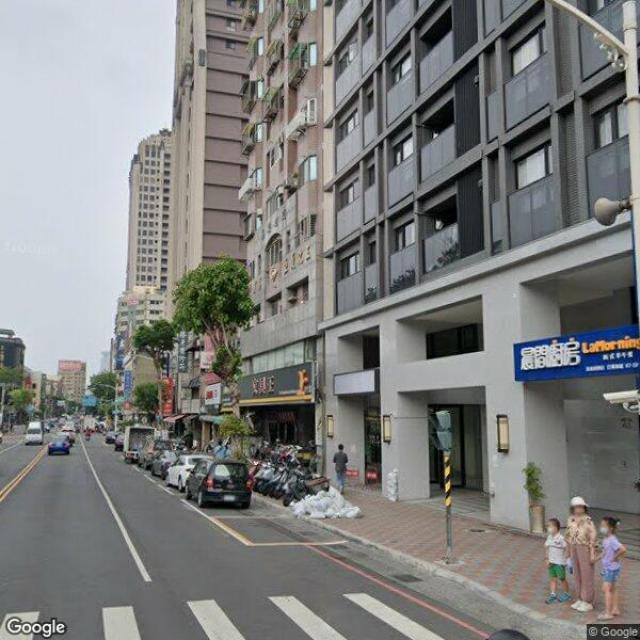Legalparking: (104, 397, 333, 522)
